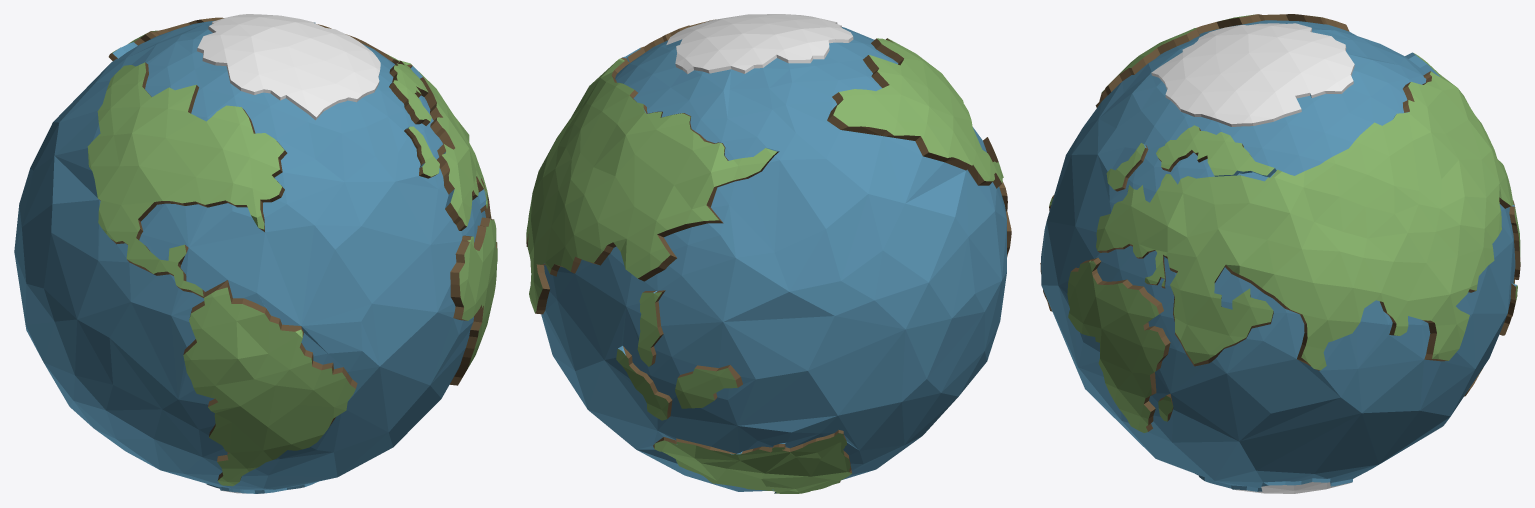
File: globe.glb
3 renders of one model, left to right at view 1: azimuth 30°, elevation 25°; view 2: azimuth 150°, elevation 25°; view 3: azimuth 270°, elevation 25°, orthographic.
Visible parts, largest first — view 1: Icosphere; view 2: Icosphere; view 3: Icosphere.
Part boxes in pixels (x1,y1,x2,y2): Icosphere: (14, 14, 497, 493); Icosphere: (526, 14, 1011, 493); Icosphere: (1040, 14, 1520, 493).
Bounding box in the file's own units: 16.6 × 16.63 × 16.69.
